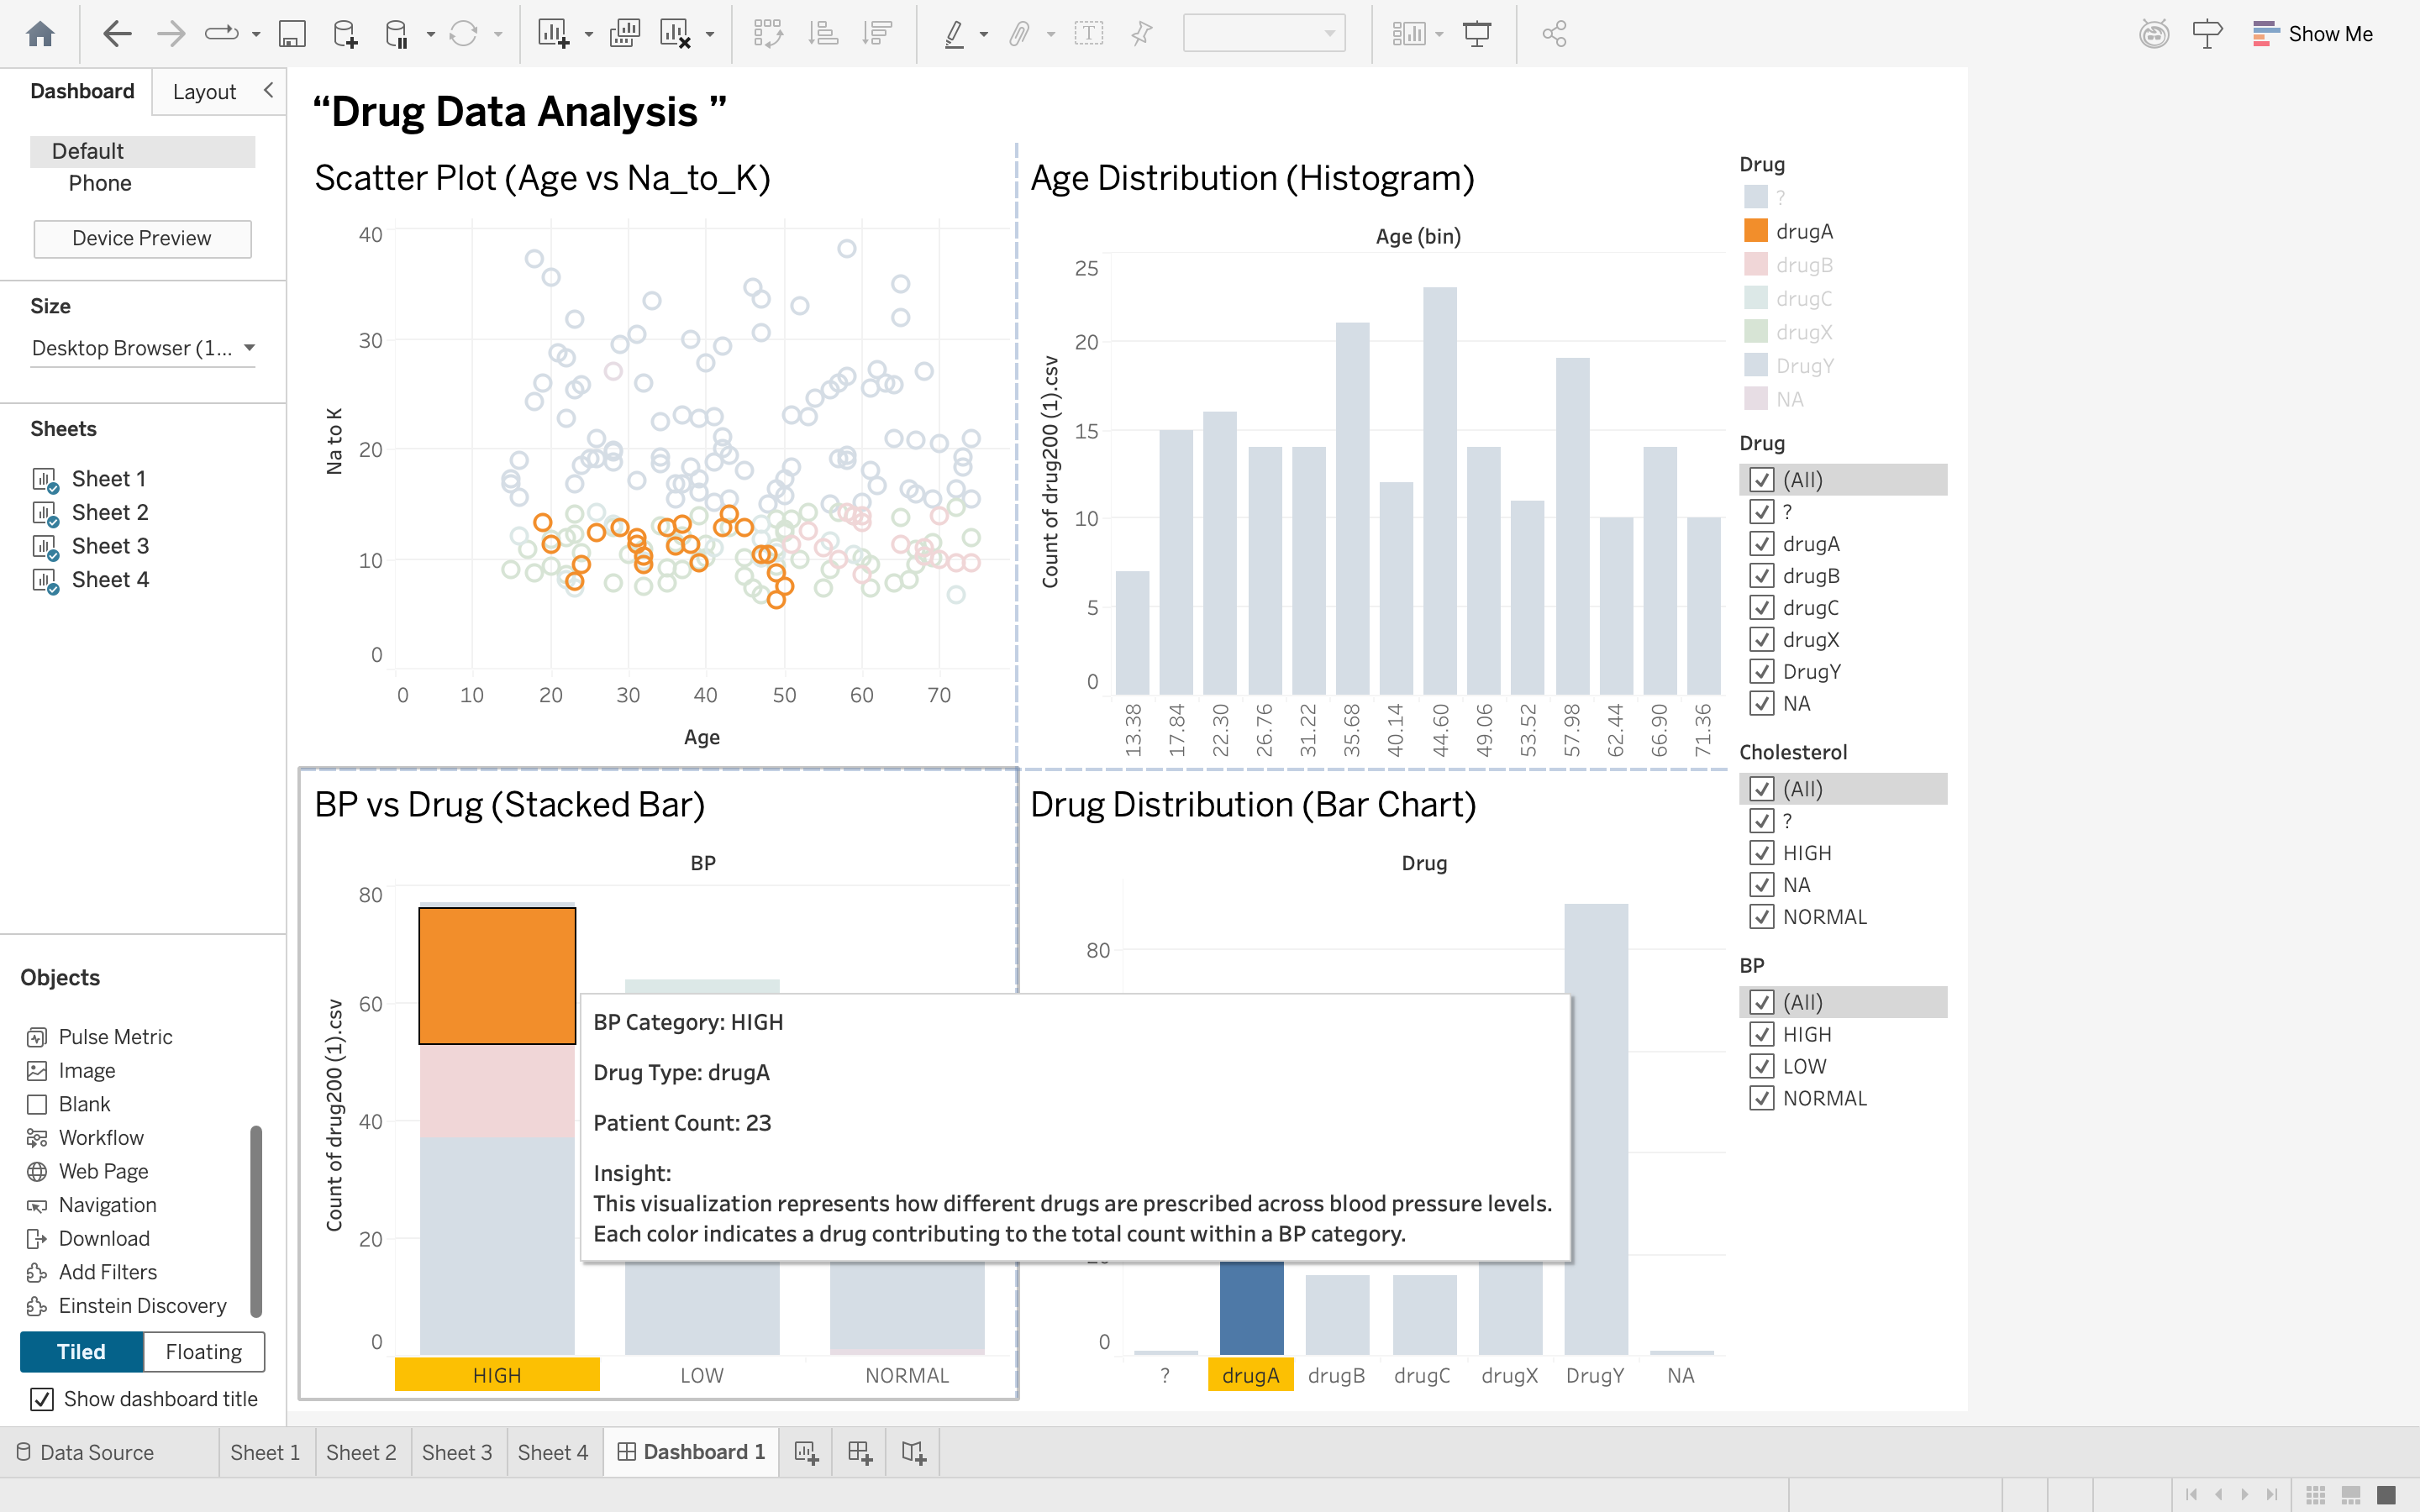

What the dashboard file says about the page in this screenshot:
{"tool":"tableau","page":{"name":"Dashboard 1","canvas":[1000,800],"ordinal":0},"visuals":[{"type":"title","box":[8,8,984,37]},{"type":"worksheet","title":"Sheet 4","mark":"Automatic","rows":["Na_to_K"],"cols":["Age"],"box":[8,45,426,373.5]},{"type":"worksheet","title":"Sheet 3","mark":"Automatic","rows":["drug200 (1).csv_AA0C963CF9534E9084CA0C074F5DABD5"],"cols":["Age (bin)"],"box":[434,45,426,373.5]},{"type":"legend","title":"Sheet 4","param":"[federated.0yvx1i319t8reb1bow4qh1xm6ua2].[none:Drug:nk]","box":[860,45,132,166]},{"type":"filter","title":"Sheet 1","param":"[federated.0yvx1i319t8reb1bow4qh1xm6ua2].[none:Drug:nk]","box":[860,211,132,184]},{"type":"filter","title":"Sheet 2","param":"[federated.0yvx1i319t8reb1bow4qh1xm6ua2].[none:Cholesterol:nk]","box":[860,395,132,127]},{"type":"worksheet","title":"Sheet 2","mark":"Automatic","rows":["drug200 (1).csv_AA0C963CF9534E9084CA0C074F5DABD5"],"cols":["BP"],"box":[8,418.5,426,373.5]},{"type":"worksheet","title":"Sheet 1","mark":"Automatic","rows":["drug200 (1).csv_AA0C963CF9534E9084CA0C074F5DABD5"],"cols":["Drug"],"box":[434,418.5,426,373.5]},{"type":"filter","title":"Sheet 2","param":"[federated.0yvx1i319t8reb1bow4qh1xm6ua2].[none:BP:nk]","box":[860,522,132,108]}]}

Visuals, with their boxes on the page's 1000x800 design canvas (x1, y1, x2, y2). These are canvas units, not pixel positions in the 2420x1512 screenshot, which may show the page scaled, cropped or inside an application window:
title: {"left": 8, "top": 8, "right": 992, "bottom": 45}
"Sheet 4" worksheet: {"left": 8, "top": 45, "right": 434, "bottom": 418}
"Sheet 3" worksheet: {"left": 434, "top": 45, "right": 860, "bottom": 418}
"Sheet 4" legend: {"left": 860, "top": 45, "right": 992, "bottom": 211}
"Sheet 1" filter: {"left": 860, "top": 211, "right": 992, "bottom": 395}
"Sheet 2" filter: {"left": 860, "top": 395, "right": 992, "bottom": 522}
"Sheet 2" worksheet: {"left": 8, "top": 418, "right": 434, "bottom": 792}
"Sheet 1" worksheet: {"left": 434, "top": 418, "right": 860, "bottom": 792}
"Sheet 2" filter: {"left": 860, "top": 522, "right": 992, "bottom": 630}
